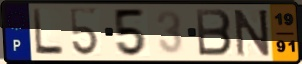3: (155, 9, 185, 56)
5: (113, 7, 149, 58), (68, 7, 102, 58)
B: (194, 8, 234, 58)
L: (31, 7, 65, 56)
N: (232, 7, 273, 58)
